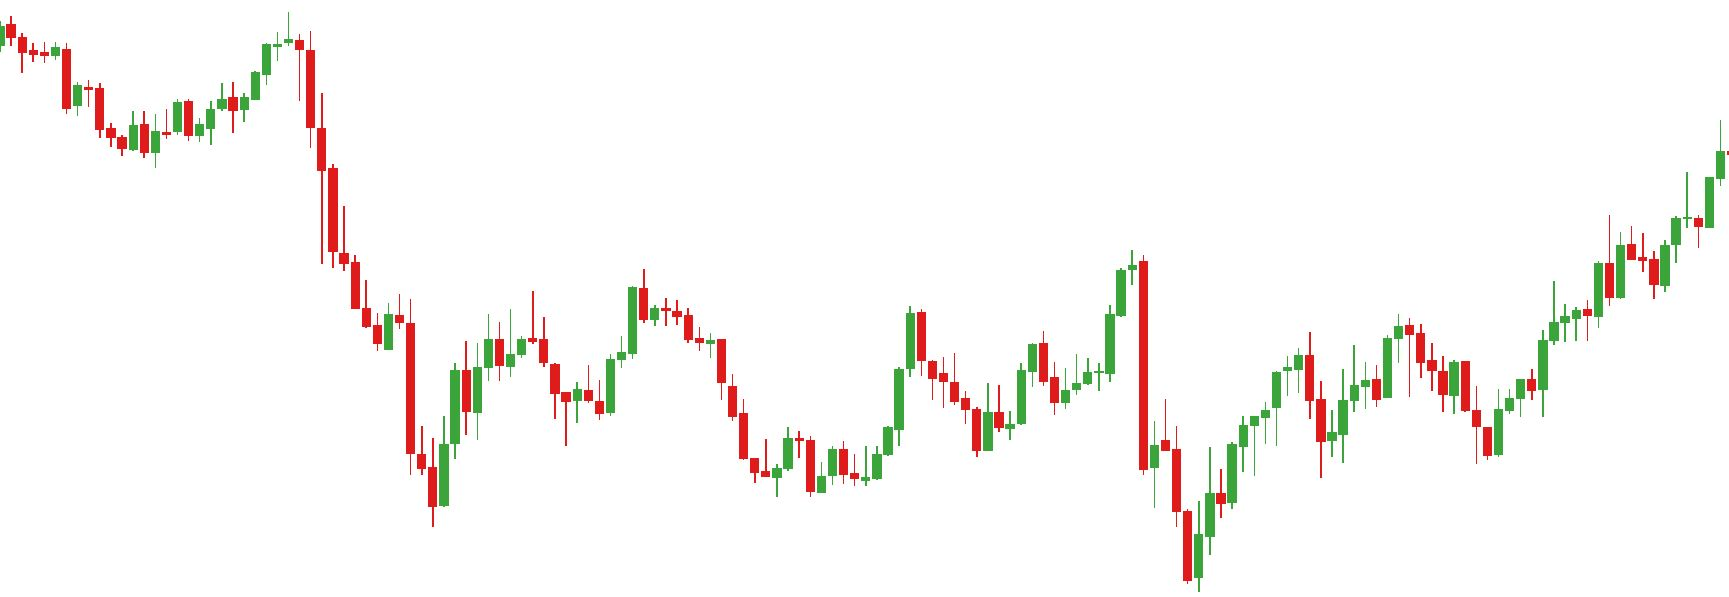buy: (1335, 352, 1507, 469)
sell: (1027, 250, 1157, 377), (529, 258, 652, 377)
